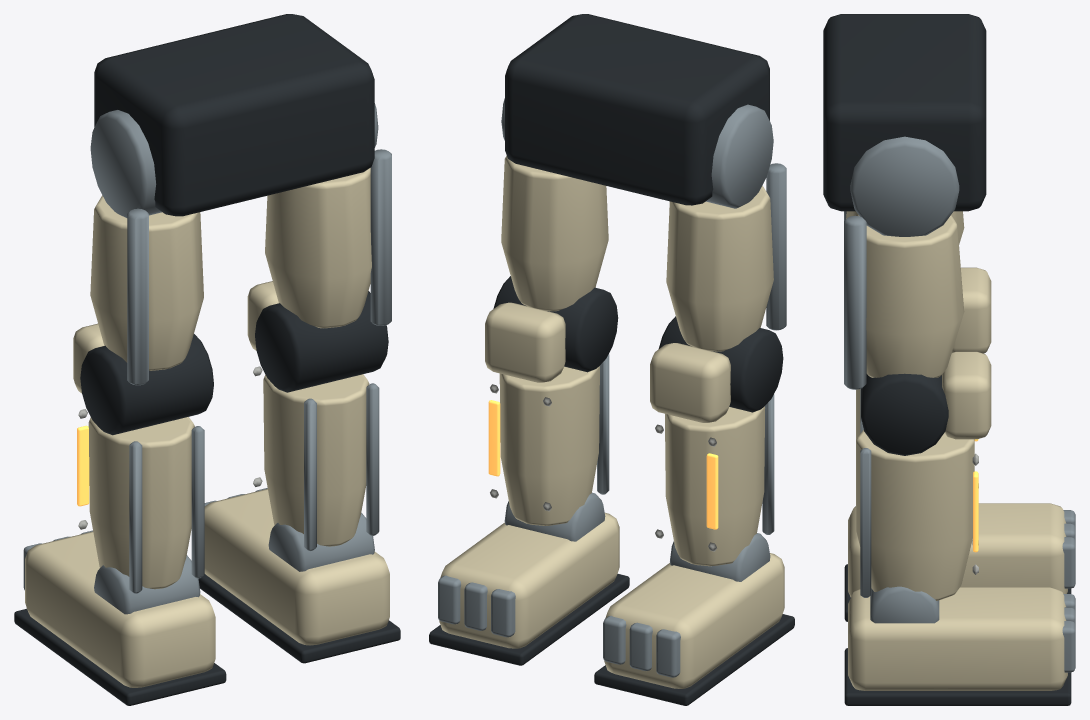
File: legs_02.glb
3 renders of one model, left to right at view 1: azimuth 30°, elevation 25°; view 2: azimuth 150°, elevation 25°; view 3: azimuth 270°, elevation 25°, orthographic. The views are drawn at different scales.
Parts seen in each view (by area): view 1: LeftShin.001_Geometry, RightShin.001_Geometry, Pelvic carrier.001, LeftThigh.001_Geometry, RightThigh.001_Geometry; view 2: RightShin.001_Geometry, LeftShin.001_Geometry, Pelvic carrier.001, LeftThigh.001_Geometry, RightThigh.001_Geometry; view 3: RightShin.001_Geometry, RightThigh.001_Geometry, Pelvic carrier.001, LeftShin.001_Geometry.
Part boxes in pixels (x1,y1,x2,y2): LeftShin.001_Geometry: (14,323,226,705); RightShin.001_Geometry: (198,281,400,663); Pelvic carrier.001: (94,14,374,216); LeftThigh.001_Geometry: (90,110,203,385); RightThigh.001_Geometry: (265,103,391,328); RightShin.001_Geometry: (429,276,629,665); LeftShin.001_Geometry: (594,316,794,705); Pelvic carrier.001: (505,14,769,205); LeftThigh.001_Geometry: (666,104,786,351); RightThigh.001_Geometry: (501,98,608,311); RightShin.001_Geometry: (844,351,1075,705); RightThigh.001_Geometry: (844,136,964,389); Pelvic carrier.001: (823,14,986,211); LeftShin.001_Geometry: (844,267,1075,621).
Size of the model in its own units: 0.44 by 0.908 by 0.356.
